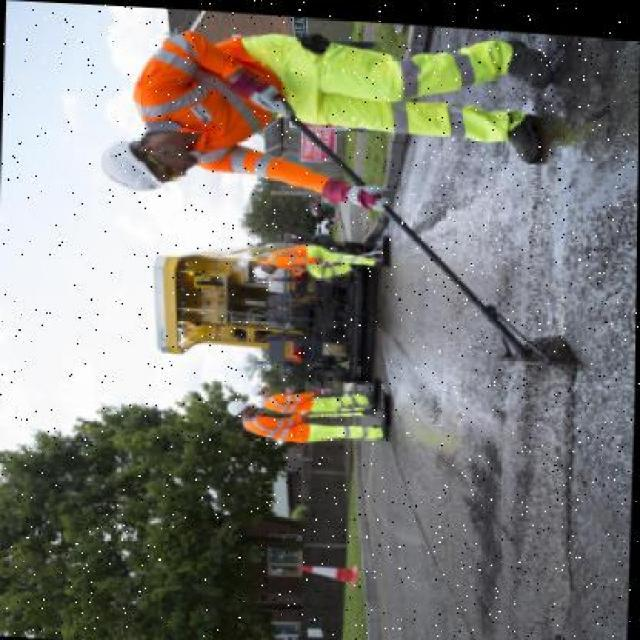helmet: (96, 131, 175, 194), (225, 392, 256, 415), (251, 258, 277, 274), (249, 378, 271, 394)
vest: (151, 28, 288, 170), (242, 411, 307, 440), (268, 235, 312, 267), (263, 386, 315, 408)
